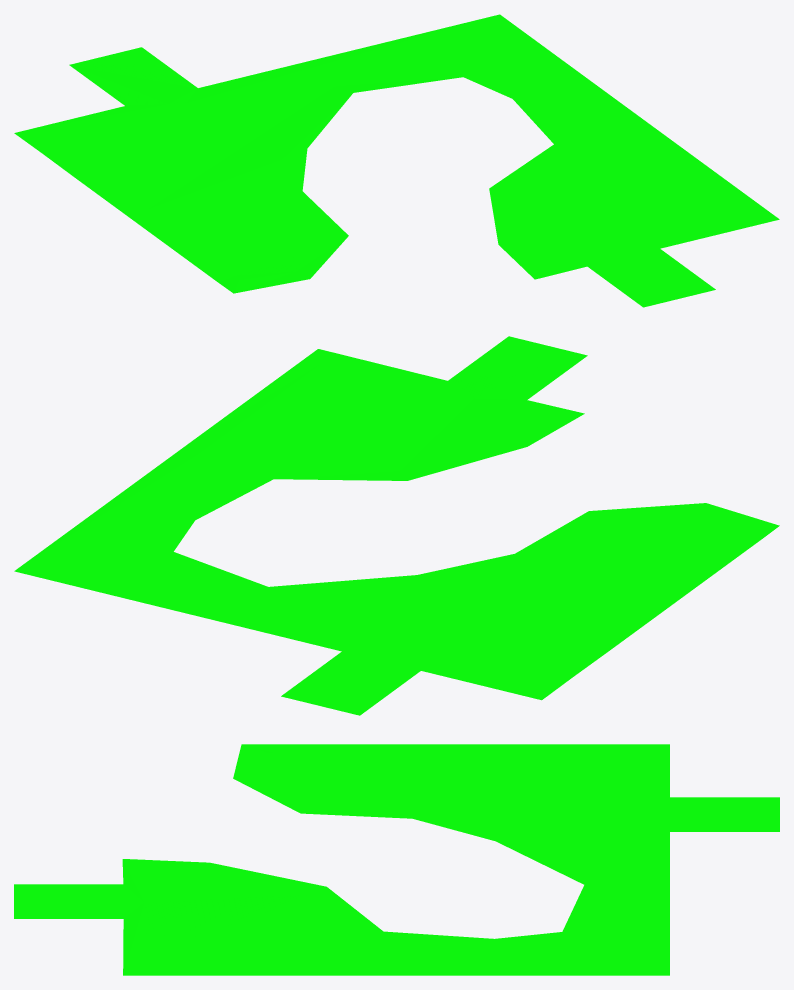
Rendered from s04a_ic1-floor.glb.
The picture shows the model from 3 angles, top to bottom: view 1: azimuth 30°, elevation 25°; view 2: azimuth 150°, elevation 25°; view 3: azimuth 270°, elevation 25°; orthographic projection. The views are drawn at different scales.
Visible parts, largest first — view 1: collision_floor-colonly; view 2: collision_floor-colonly; view 3: collision_floor-colonly.
Part boxes in pixels (x1=…): collision_floor-colonly: x1=14, y1=14, x2=779, y2=307; collision_floor-colonly: x1=14, y1=336, x2=779, y2=715; collision_floor-colonly: x1=14, y1=744, x2=779, y2=975.
Size of the model in its own units: 40 by 0.0234 by 55.92.
